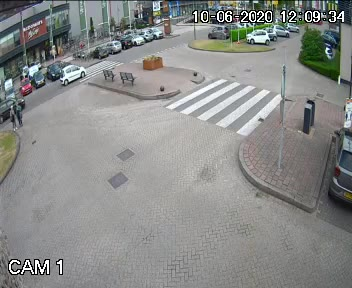car: (54, 63, 94, 86), (0, 92, 30, 120)
